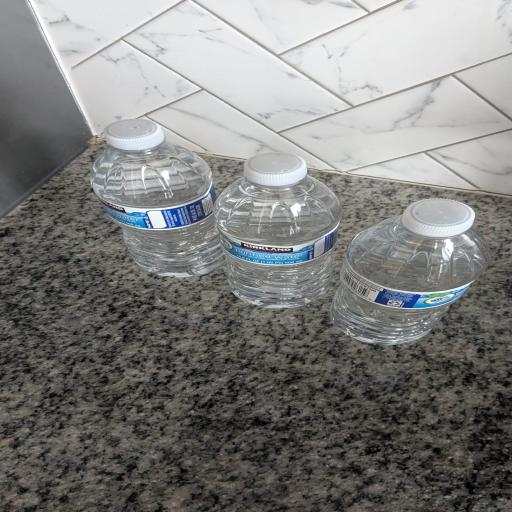waterbottle: (331, 199, 489, 344), (91, 120, 223, 276), (215, 153, 340, 307)
